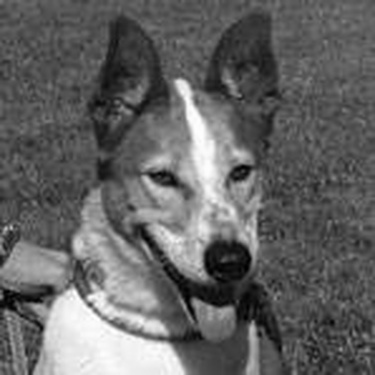dog: (24, 7, 290, 369)
